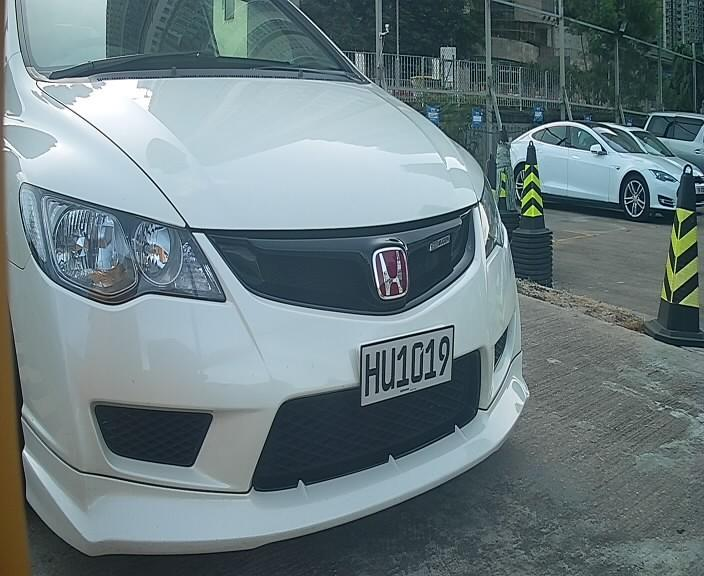privatecar: (16, 21, 529, 538)
